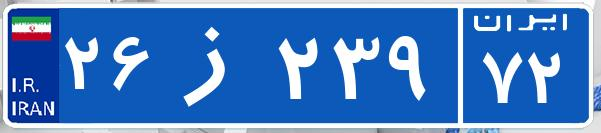2: (273, 28, 330, 110), (57, 26, 110, 107), (525, 38, 570, 115)
3: (330, 28, 385, 110)
6: (110, 28, 158, 105)
7: (475, 38, 525, 113)
9: (385, 28, 445, 110)
ز: (158, 15, 273, 115)
